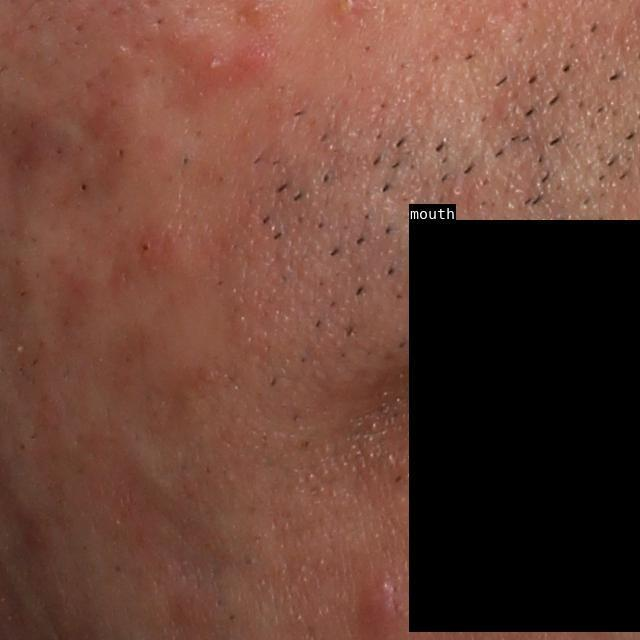papule: (352, 562, 410, 634)
